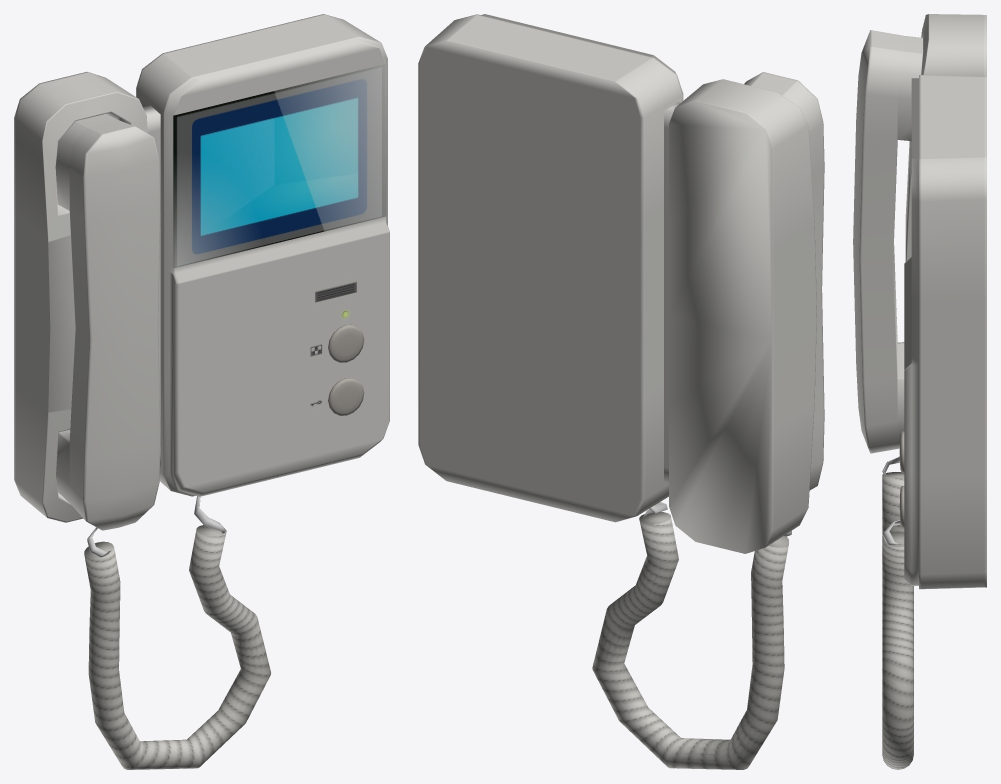
File: intercom_with_screen.obj
The picture shows the model from 3 angles, left to right: view 1: azimuth 30°, elevation 25°; view 2: azimuth 150°, elevation 25°; view 3: azimuth 270°, elevation 25°; orthographic projection. The views are drawn at different scales.
Parts seen in each view (by area): view 1: Cube, Cube.001, Cylinder.001, Cylinder; view 2: Cube, Cube.001; view 3: Cube, Cube.001.
Part boxes in pixels (bbox=[...]): Cube: bbox=[14, 14, 389, 530]; Cube.001: bbox=[84, 525, 270, 769]; Cylinder.001: bbox=[328, 324, 364, 362]; Cylinder: bbox=[328, 378, 364, 415]; Cube: bbox=[418, 14, 824, 553]; Cube.001: bbox=[592, 512, 788, 769]; Cube: bbox=[853, 14, 986, 589]; Cube.001: bbox=[882, 472, 913, 769].
Size of the model in its own units: 19.06 by 35.98 by 6.25.
